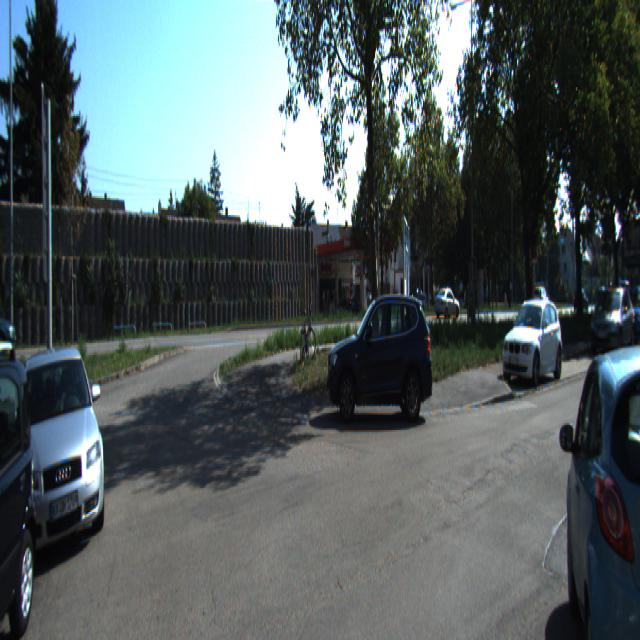Car: (563, 314, 640, 638), (17, 325, 109, 566), (0, 311, 50, 638), (322, 275, 434, 418), (499, 294, 565, 385), (588, 284, 636, 356), (0, 290, 18, 355), (433, 284, 461, 320)
